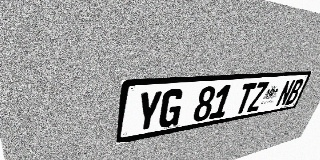1: (209, 84, 234, 119)
8: (192, 86, 218, 123)
B: (284, 79, 305, 105)
G: (157, 88, 185, 129)
N: (275, 79, 296, 107)
T: (233, 83, 257, 115)
Y: (134, 90, 163, 133)
Z: (246, 82, 269, 112)
